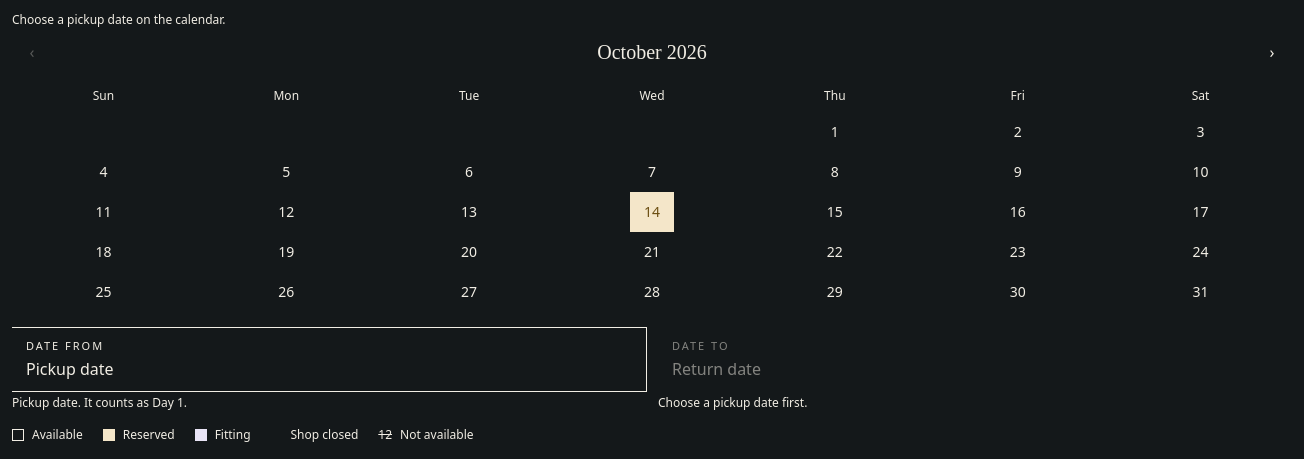
storefront Date from / Date to controls the shared calendar › keeps the fields and the calendar in step
Click the button named "October 20" at (469, 252), box left=447, top=232, right=491, bottom=272
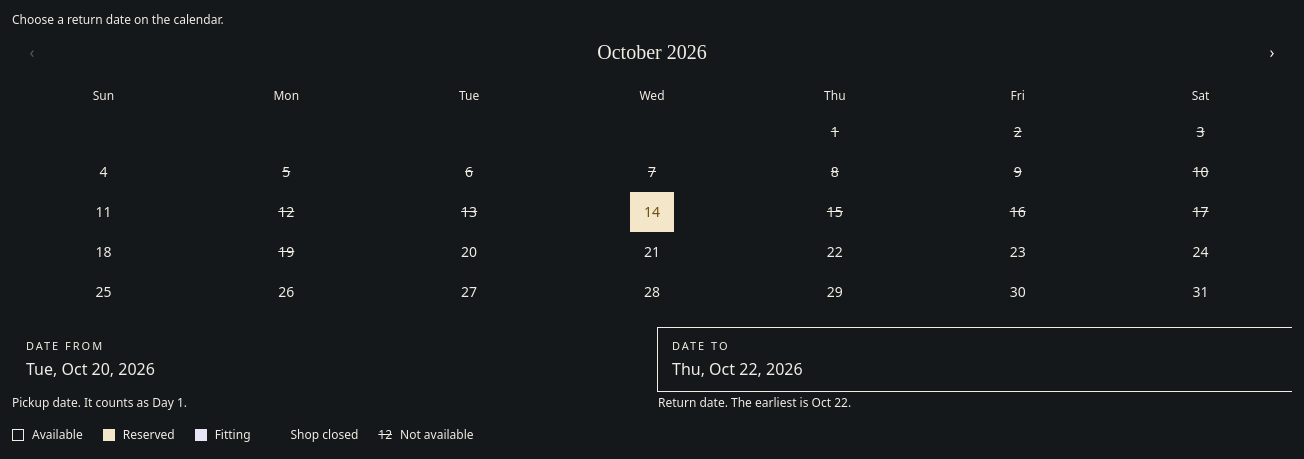
Click the button named "October 23" at (1018, 252), box left=996, top=232, right=1040, bottom=272
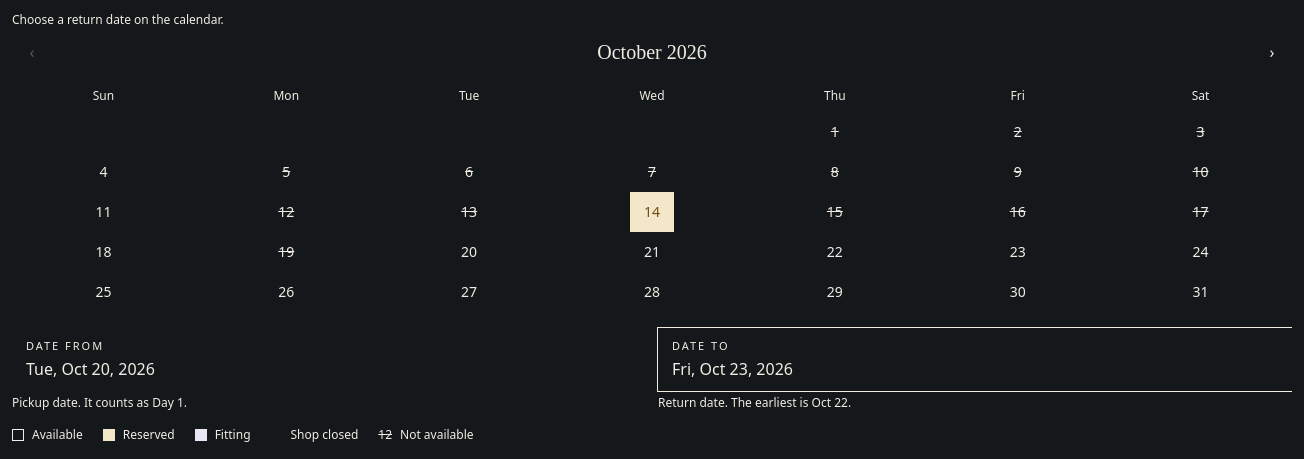
Check: the button "Date from Tue, Oct 20, 2026" is shown, box left=12, top=328, right=646, bottom=390
Check: the button "Date to Fri, Oct 23, 2026" is shown, box left=658, top=328, right=1292, bottom=390
